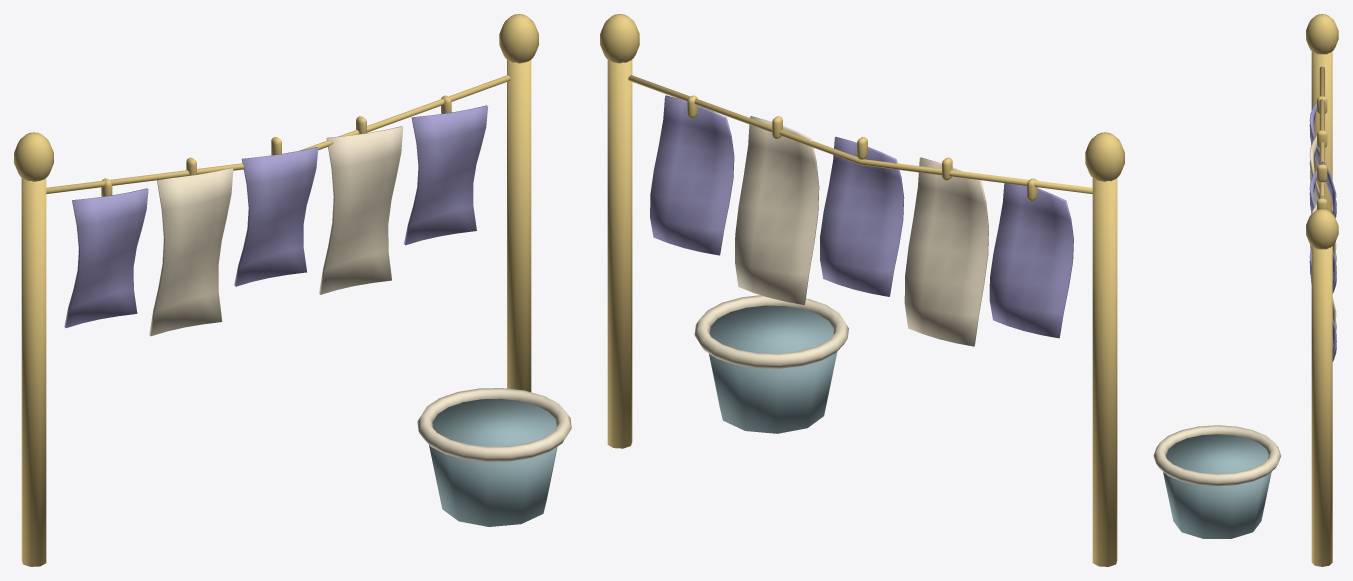
The model's file is discovery_cloud-laundry.glb.
The picture shows the model from 3 angles, left to right: view 1: azimuth 30°, elevation 25°; view 2: azimuth 150°, elevation 25°; view 3: azimuth 270°, elevation 25°; orthographic projection. The views are drawn at different scales.
Parts seen in each view (by area): view 1: discovery_cloud-laundry_part_0, discovery_cloud-laundry_part_2, discovery_cloud-laundry_part_4, discovery_cloud-laundry_part_3, discovery_cloud-laundry_part_5, discovery_cloud-laundry_part_1; view 2: discovery_cloud-laundry_part_0, discovery_cloud-laundry_part_2, discovery_cloud-laundry_part_4, discovery_cloud-laundry_part_5, discovery_cloud-laundry_part_1, discovery_cloud-laundry_part_3; view 3: discovery_cloud-laundry_part_0, discovery_cloud-laundry_part_1, discovery_cloud-laundry_part_3, discovery_cloud-laundry_part_2, discovery_cloud-laundry_part_4.
Part boxes in pixels (<box>): discovery_cloud-laundry_part_0: <box>14,14,571,566</box>; discovery_cloud-laundry_part_2: <box>149,157,233,336</box>; discovery_cloud-laundry_part_4: <box>319,116,403,294</box>; discovery_cloud-laundry_part_3: <box>234,137,318,286</box>; discovery_cloud-laundry_part_5: <box>404,95,488,245</box>; discovery_cloud-laundry_part_1: <box>64,178,148,327</box>; discovery_cloud-laundry_part_0: <box>600,14,1124,566</box>; discovery_cloud-laundry_part_2: <box>904,157,988,346</box>; discovery_cloud-laundry_part_4: <box>735,116,819,304</box>; discovery_cloud-laundry_part_5: <box>650,95,734,255</box>; discovery_cloud-laundry_part_1: <box>989,178,1073,338</box>; discovery_cloud-laundry_part_3: <box>820,137,904,296</box>; discovery_cloud-laundry_part_0: <box>1153,14,1338,566</box>; discovery_cloud-laundry_part_1: <box>1309,96,1336,217</box>; discovery_cloud-laundry_part_3: <box>1309,161,1336,293</box>; discovery_cloud-laundry_part_2: <box>1309,130,1336,278</box>; discovery_cloud-laundry_part_4: <box>1310,195,1336,346</box>.
Size of the model in its own units: 4.71 by 3.71 by 1.77.
